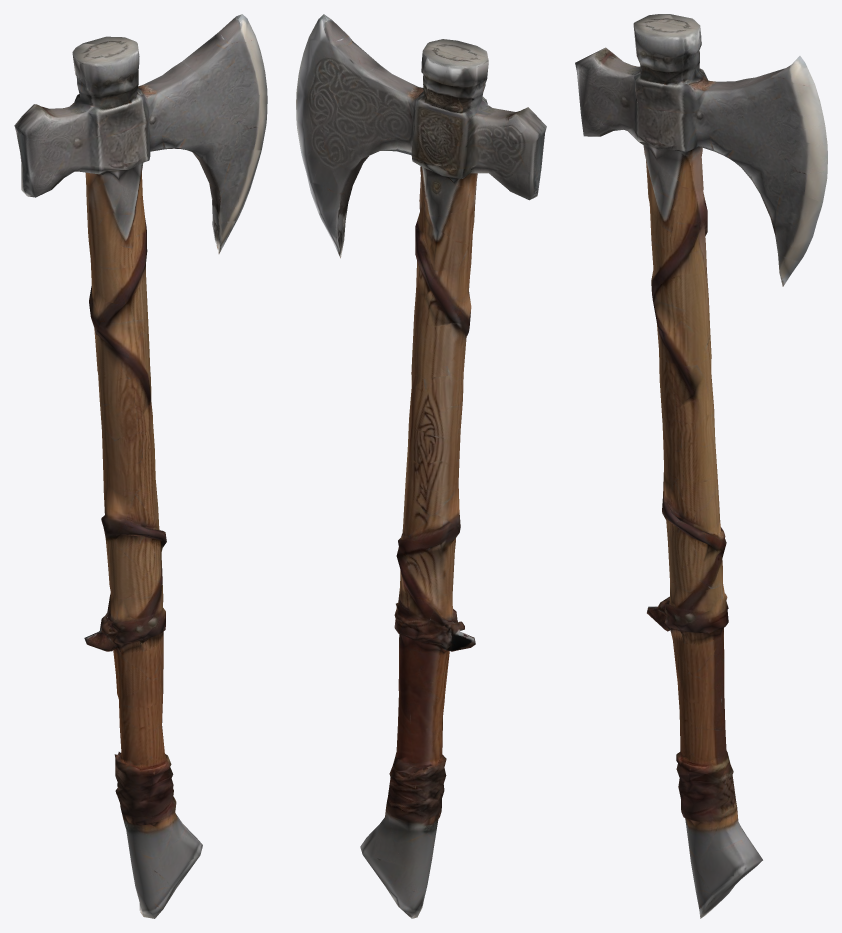
Rendered from 1404_war_axe.glb.
3 renders of one model, left to right at view 1: azimuth 30°, elevation 25°; view 2: azimuth 150°, elevation 25°; view 3: azimuth 330°, elevation 25°, orthographic.
Visible parts, largest first — view 1: Model; view 2: Model; view 3: Model.
Boxes of the visible parts, <box> form: Model: <box>14,14,267,918</box>; Model: <box>296,14,546,918</box>; Model: <box>575,14,827,918</box>.
Size of the model in its own units: 0.295 by 1 by 0.0636.
Materials: 1 (1 with a texture image).
